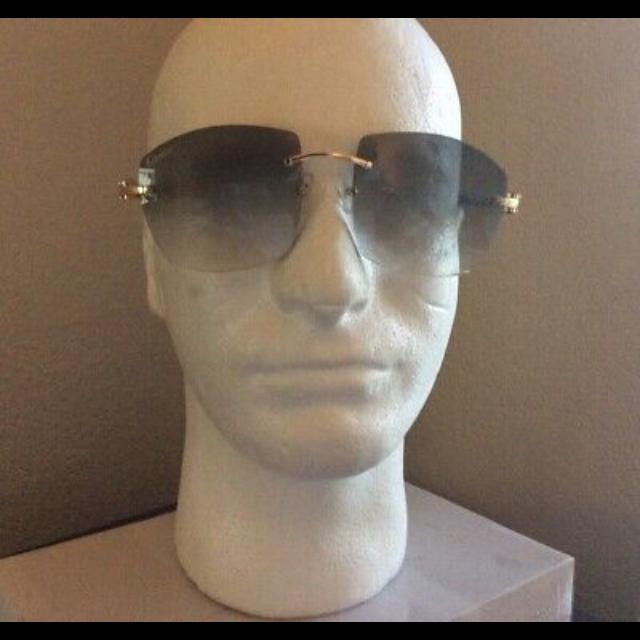sunglasses: (112, 124, 520, 272)
